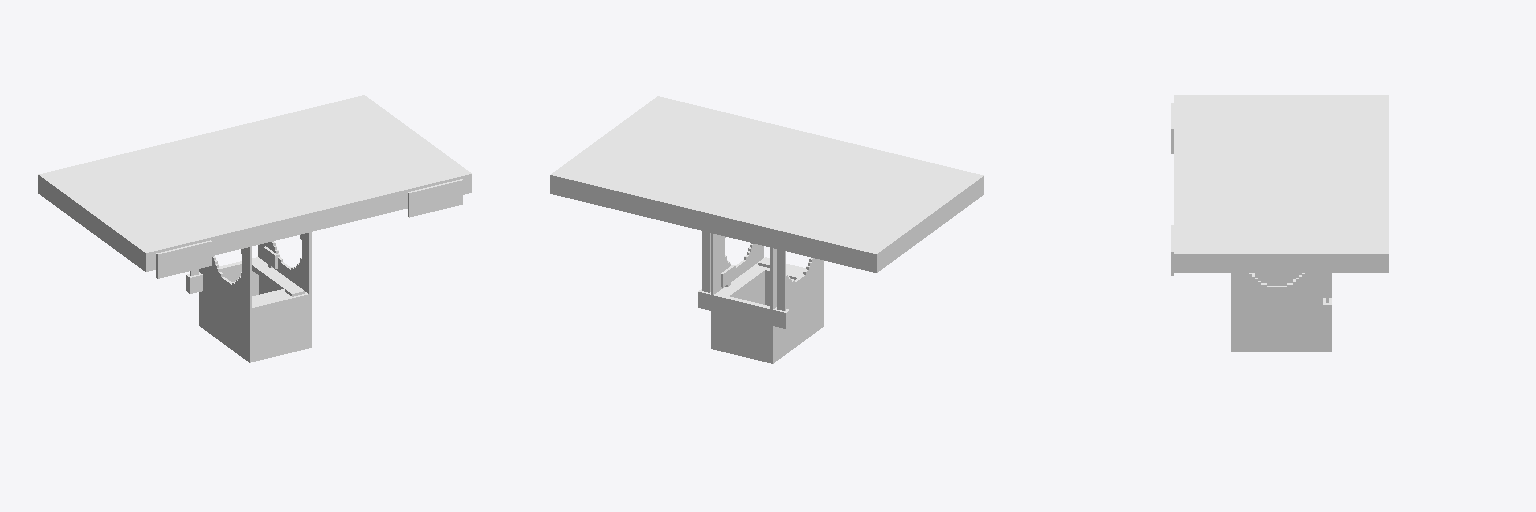
The model's file is PEAJE.obj.
The picture shows the model from 3 angles: view 1: azimuth 30°, elevation 25°; view 2: azimuth 150°, elevation 25°; view 3: azimuth 270°, elevation 25°; orthographic projection.
Visible parts, largest first — view 1: object 1; view 2: object 1; view 3: object 1.
Part boxes in pixels (x1,y1,x2,y2): object 1: (38, 95, 471, 362); object 1: (550, 96, 983, 363); object 1: (1171, 95, 1388, 351).
Bounding box in the file's own units: 12.6 × 6 × 7.3.